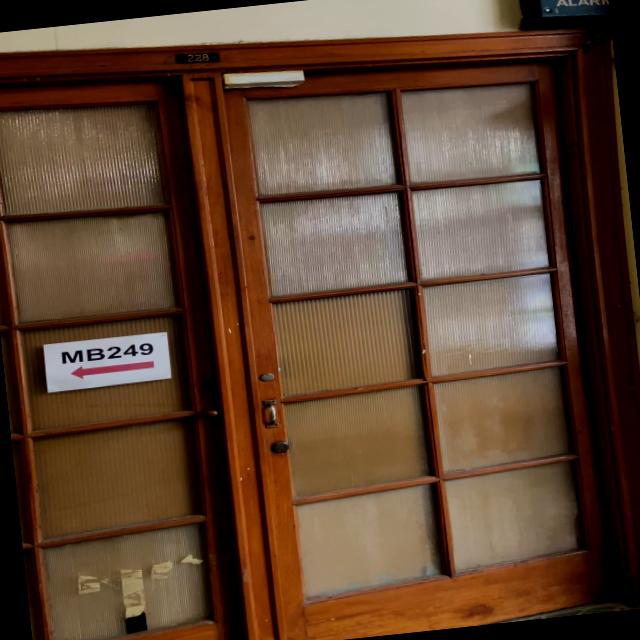room228: (172, 48, 220, 66)
